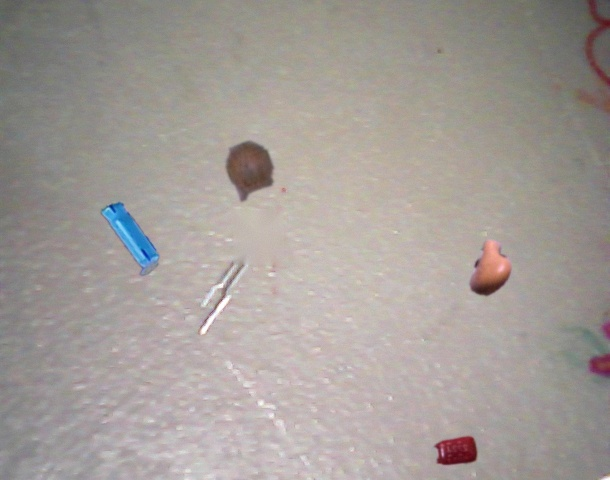capacitor: (101, 201, 159, 275), (225, 140, 274, 202), (469, 239, 512, 296), (434, 436, 477, 466)
